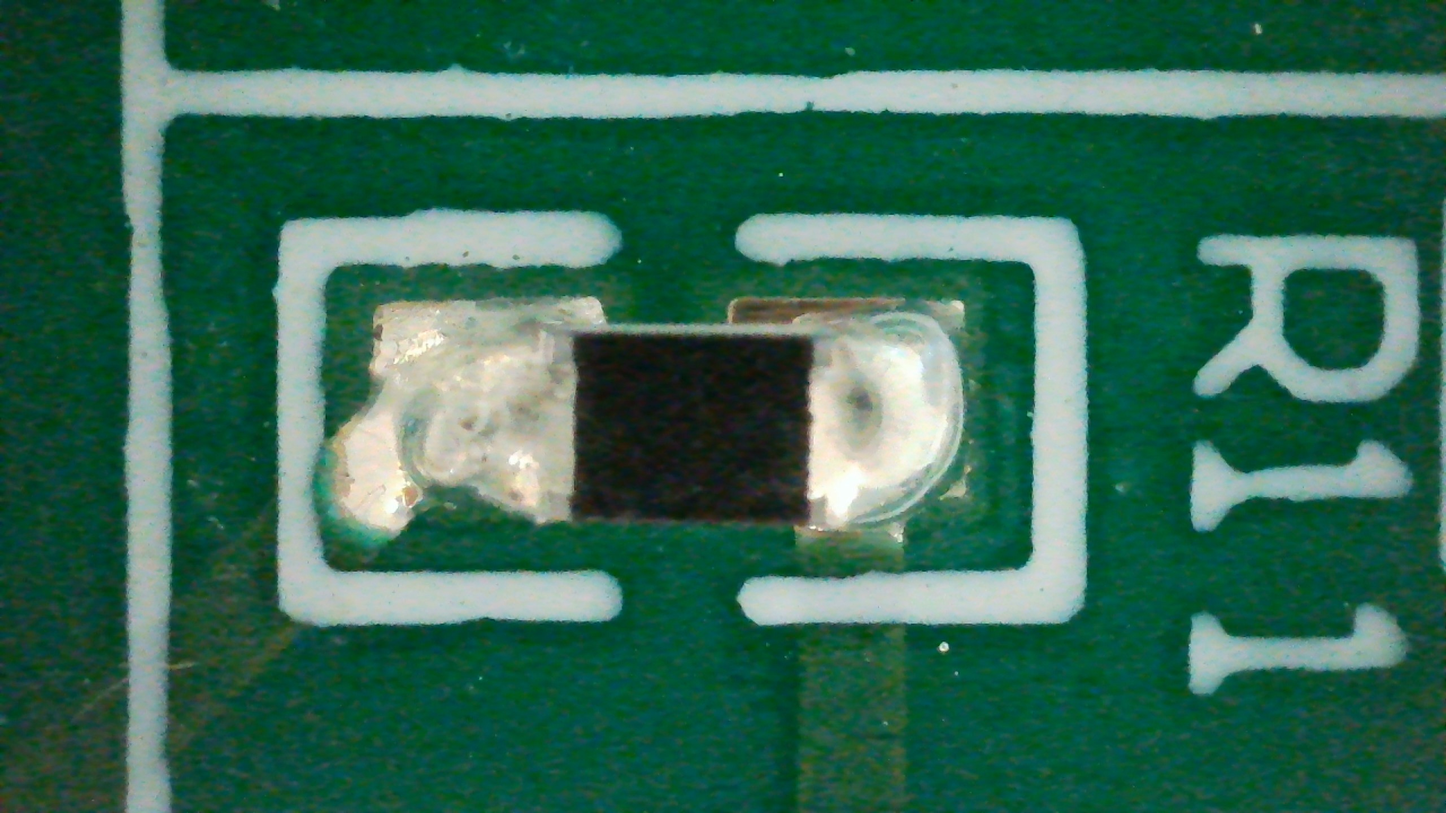OK: (321, 298, 964, 535)
